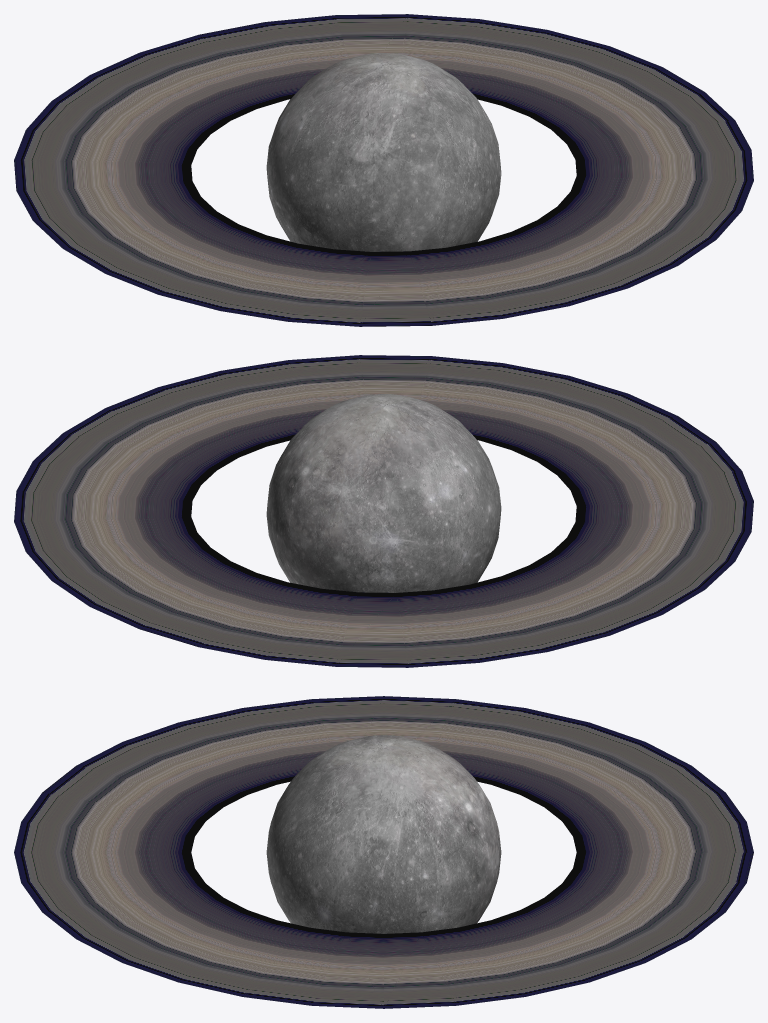
Rendered from PlanetPack.fbx.
3 views of the same model, one above another, from view 1: azimuth 30°, elevation 25°; view 2: azimuth 150°, elevation 25°; view 3: azimuth 270°, elevation 25° (orthographic).
Visible parts, largest first — view 1: 6.Saturn, 1.Mercury; view 2: 6.Saturn, 1.Mercury; view 3: 6.Saturn, 1.Mercury.
Boxes of the visible parts, x1,y1,x2,y2 form: 6.Saturn: [14, 14, 753, 326]; 1.Mercury: [266, 53, 501, 251]; 6.Saturn: [14, 355, 753, 667]; 1.Mercury: [266, 394, 501, 592]; 6.Saturn: [14, 696, 753, 1008]; 1.Mercury: [266, 735, 501, 933].
Bounding box in the file's own units: 3151 × 1000 × 3151.
